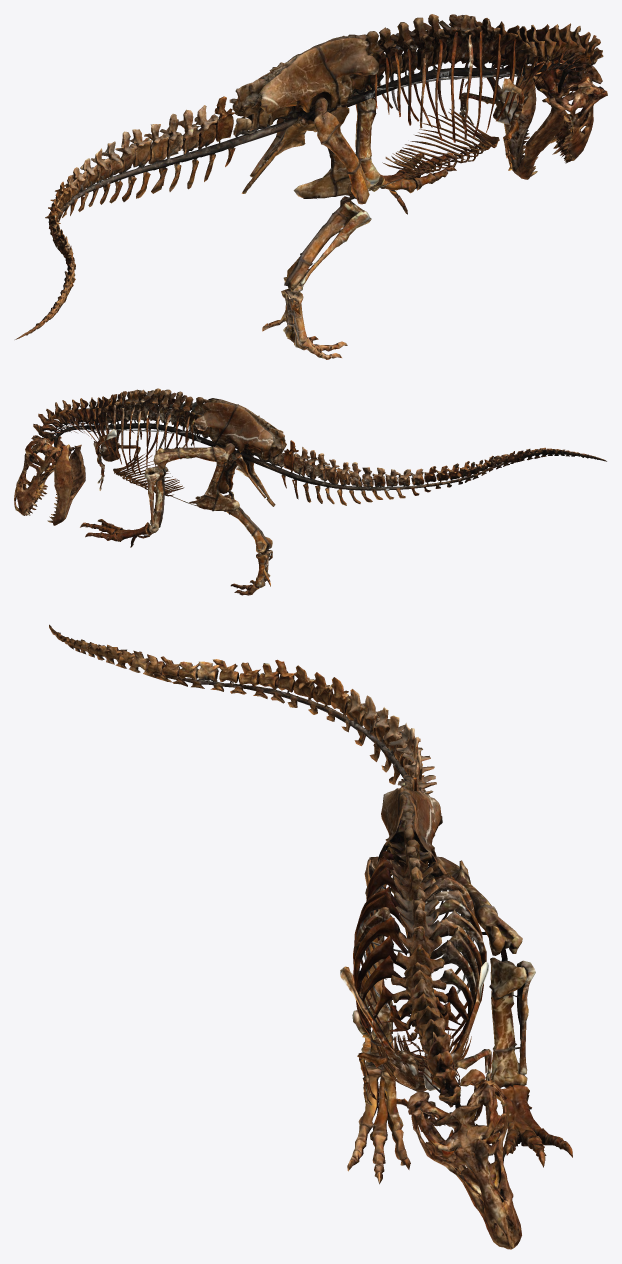
The model's file is gramedla-skeleton.glb.
The picture shows the model from 3 angles, top to bottom: view 1: azimuth 30°, elevation 25°; view 2: azimuth 150°, elevation 25°; view 3: azimuth 270°, elevation 25°; orthographic projection. The views are drawn at different scales.
Visible parts, largest first — view 1: Skeleton; view 2: Skeleton; view 3: Skeleton.
Part boxes in pixels (left/top/right/bottom): Skeleton: left=15, top=14, right=607, bottom=359; Skeleton: left=14, top=388, right=606, bottom=595; Skeleton: left=49, top=624, right=572, bottom=1249.
Size of the model in its own units: 9.43 by 3.58 by 4.46.
4 materials, 4 textured.
